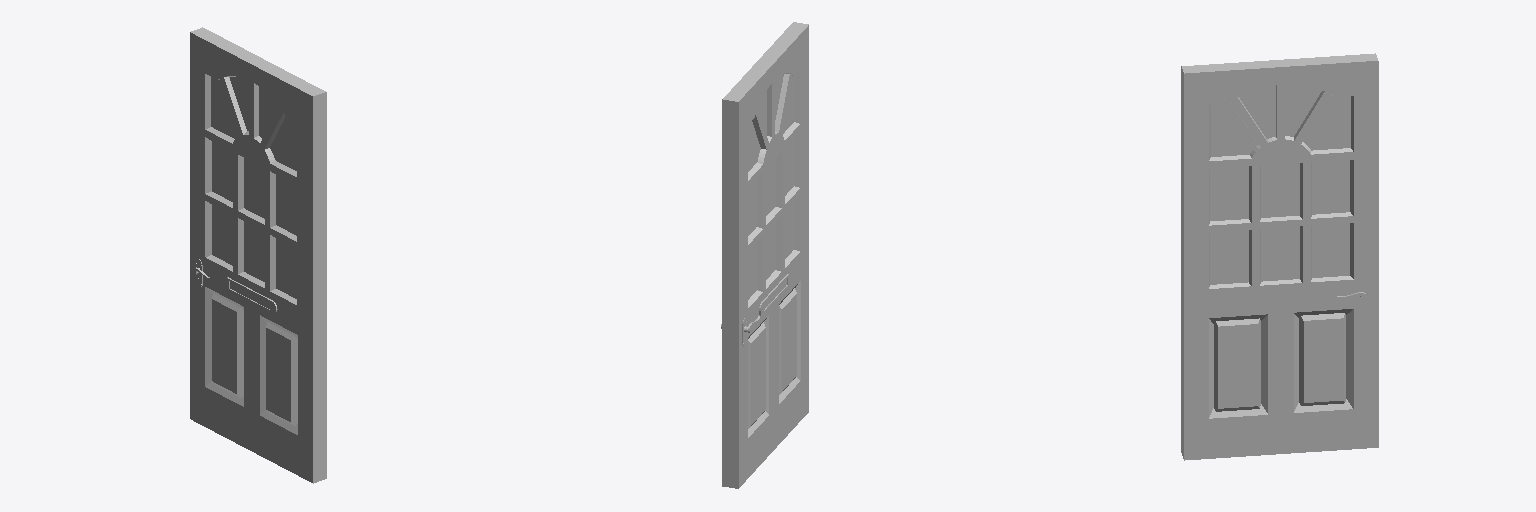
Rendered from door_000005.obj.
3 renders of one model, left to right at view 1: azimuth 30°, elevation 25°; view 2: azimuth 150°, elevation 25°; view 3: azimuth 270°, elevation 25°, orthographic.
Visible parts, largest first — view 1: Door.003; view 2: Door.003; view 3: Door.003.
Part boxes in pixels (x1,y1,x2,y2): Door.003: (190,27,326,483); Door.003: (721,22,808,488); Door.003: (1181,53,1378,460).
Size of the model in its own units: 0.1966 by 1.6 by 0.7406.